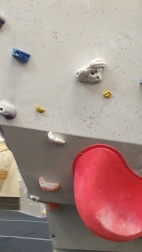Jug: (78, 56, 106, 84), (37, 174, 59, 191), (48, 130, 66, 148)
Pinch: (12, 47, 32, 63)
Sloper: (1, 99, 18, 120)
